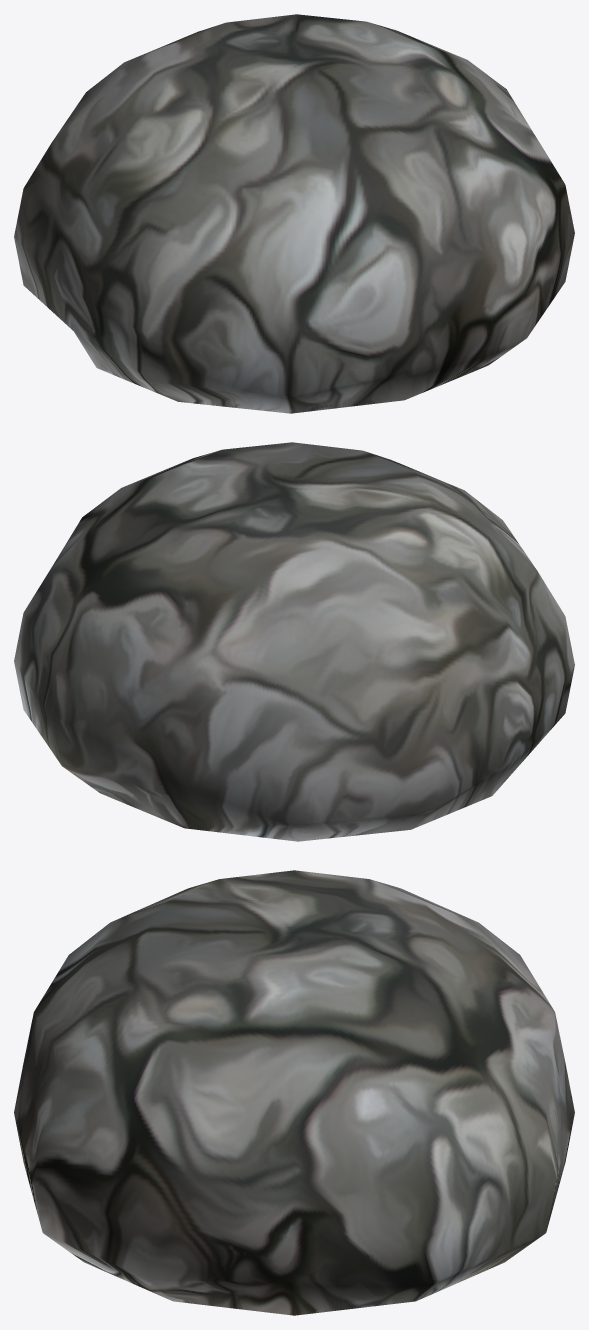
The model's file is Stone_04.fbx.
3 views of the same model, one above another, from view 1: azimuth 30°, elevation 25°; view 2: azimuth 150°, elevation 25°; view 3: azimuth 270°, elevation 25° (orthographic). The views are drawn at different scales.
Parts seen in each view (by area): view 1: Stone_04; view 2: Stone_04; view 3: Stone_04.
Boxes of the visible parts, bbox=[...] form: Stone_04: bbox=[14, 14, 574, 413]; Stone_04: bbox=[14, 442, 574, 841]; Stone_04: bbox=[14, 870, 574, 1315].
Size of the model in its own units: 41.53 by 22.28 by 40.02.
